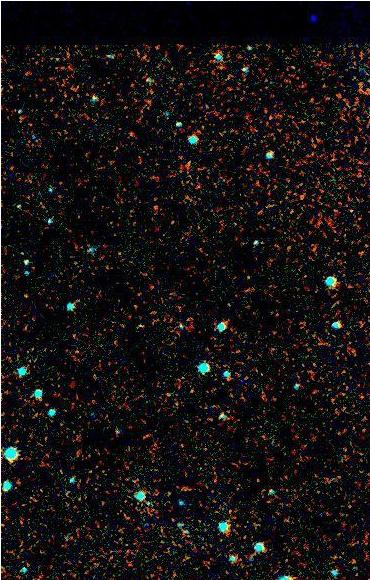star: (14, 283, 44, 313)
